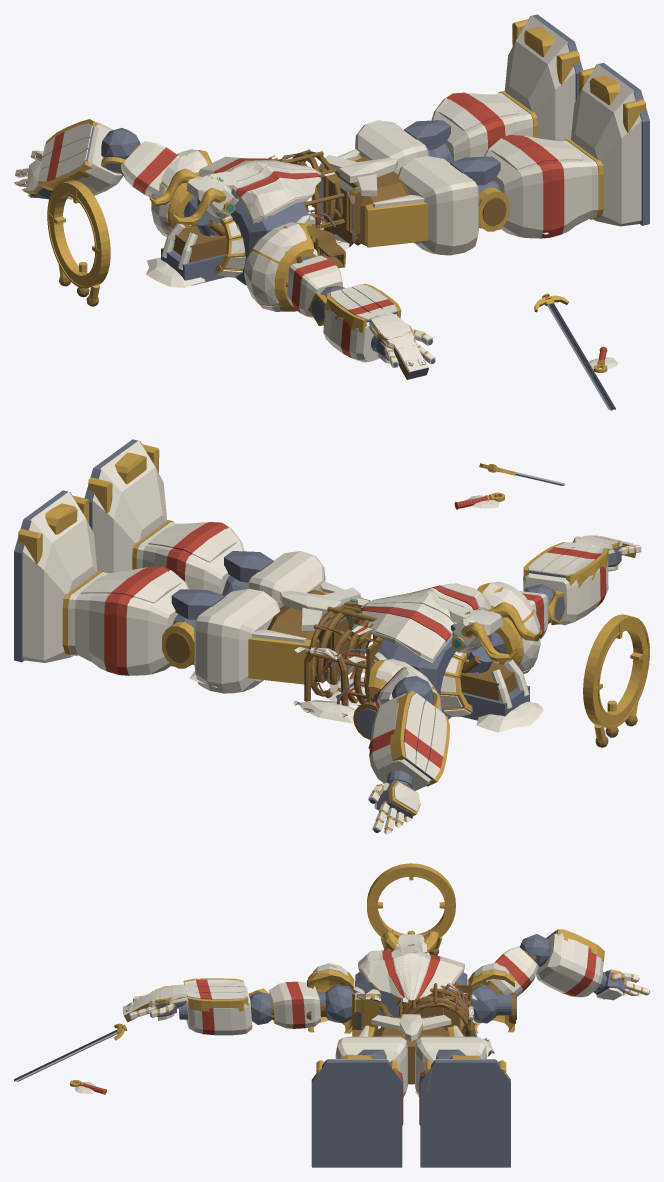
File: titan-lod2.glb
The picture shows the model from 3 angles, top to bottom: view 1: azimuth 30°, elevation 25°; view 2: azimuth 150°, elevation 25°; view 3: azimuth 270°, elevation 25°; orthographic projection. The views are drawn at different scales.
Visible parts, largest first — view 1: titan/shin.R/greave-side-shell, titan/foot.R/foot-shell, titan/thigh.R/thigh-armour, titan/foot.L/foot-shell, titan/shin.L/greave-side-shell, titan/pelvis/hip-skirt-trim-R, titan/halo/main-ring, titan/thigh.L/thigh-armour, titan/upper_arm.R/upper-arm-armour, titan/upper_arm.L/upper-arm-armour, titan/shin.R/greave-armour, titan/shin.L/greave-armour (+33 smaller); view 2: titan/shin.L/greave-side-shell, titan/foot.L/foot-shell, titan/thigh.L/thigh-armour, titan/foot.R/foot-shell, titan/shin.R/greave-side-shell, titan/halo/main-ring, titan/thigh.R/thigh-armour, titan/pelvis/hip-skirt-trim-L, titan/forearm.R/forearm-armour, titan/forearm.L/forearm-armour, titan/shin.L/greave-armour, titan/shin.R/greave-armour (+36 smaller); view 3: titan/foot.R/sole, titan/foot.L/sole, titan/forearm.L/forearm-armour, titan/upper_arm.R/upper-arm-armour, titan/forearm.R/forearm-armour, titan/halo/main-ring, titan/thigh.R/thigh-armour, titan/thigh.L/thigh-armour, titan/upper_arm.L/upper-arm-armour, titan/upper_arm.R/shoulder-gimbal, titan/chest/breastplate-R-4, titan/shoulder.R/pauldron-shell (+17 smaller).
Part boxes in pixels (x1=…): titan/shin.R/greave-side-shell: x1=484, y1=135, x2=598, y2=238; titan/foot.R/foot-shell: x1=571, y1=64, x2=641, y2=226; titan/thigh.R/thigh-armour: x1=397, y1=156, x2=479, y2=255; titan/foot.L/foot-shell: x1=505, y1=15, x2=575, y2=141; titan/shin.L/greave-side-shell: x1=431, y1=92, x2=533, y2=161; titan/pelvis/hip-skirt-trim-R: x1=365, y1=202, x2=428, y2=247; titan/halo/main-ring: x1=49, y1=180, x2=109, y2=287; titan/thigh.L/thigh-armour: x1=355, y1=120, x2=429, y2=174; titan/upper_arm.R/upper-arm-armour: x1=287, y1=255, x2=342, y2=317; titan/upper_arm.L/upper-arm-armour: x1=121, y1=141, x2=179, y2=196; titan/shin.R/greave-armour: x1=491, y1=136, x2=583, y2=169; titan/shin.L/greave-armour: x1=438, y1=94, x2=519, y2=131; titan/shin.L/greave-side-shell: x1=68, y1=566, x2=188, y2=675; titan/foot.L/foot-shell: x1=22, y1=491, x2=97, y2=662; titan/thigh.L/thigh-armour: x1=194, y1=588, x2=280, y2=693; titan/foot.R/foot-shell: x1=92, y1=440, x2=166, y2=573; titan/shin.R/greave-side-shell: x1=137, y1=521, x2=244, y2=594; titan/halo/main-ring: x1=584, y1=615, x2=647, y2=726; titan/thigh.R/thigh-armour: x1=247, y1=551, x2=325, y2=607; titan/pelvis/hip-skirt-trim-L: x1=248, y1=637, x2=314, y2=684; titan/forearm.R/forearm-armour: x1=523, y1=561, x2=608, y2=625; titan/forearm.L/forearm-armour: x1=369, y1=693, x2=431, y2=790; titan/shin.L/greave-armour: x1=80, y1=568, x2=181, y2=603; titan/shin.R/greave-armour: x1=148, y1=523, x2=236, y2=562; titan/foot.R/sole: x1=311, y1=1060, x2=402, y2=1167; titan/foot.L/sole: x1=420, y1=1060, x2=510, y2=1167; titan/forearm.L/forearm-armour: x1=536, y1=933, x2=603, y2=997; titan/upper_arm.R/upper-arm-armour: x1=269, y1=981, x2=320, y2=1028; titan/forearm.R/forearm-armour: x1=186, y1=986, x2=252, y2=1035; titan/halo/main-ring: x1=367, y1=863, x2=455, y2=938; titan/thigh.R/thigh-armour: x1=335, y1=1036, x2=407, y2=1097; titan/thigh.L/thigh-armour: x1=415, y1=1036, x2=486, y2=1097; titan/upper_arm.L/upper-arm-armour: x1=486, y1=946, x2=538, y2=996; titan/upper_arm.R/shoulder-gimbal: x1=325, y1=985, x2=352, y2=1023; titan/chest/breastplate-R-4: x1=358, y1=950, x2=401, y2=997; titan/shoulder.R/pauldron-shell: x1=308, y1=965, x2=354, y2=1033.
Bounding box in the file's own units: 1621 × 387 × 2108.
